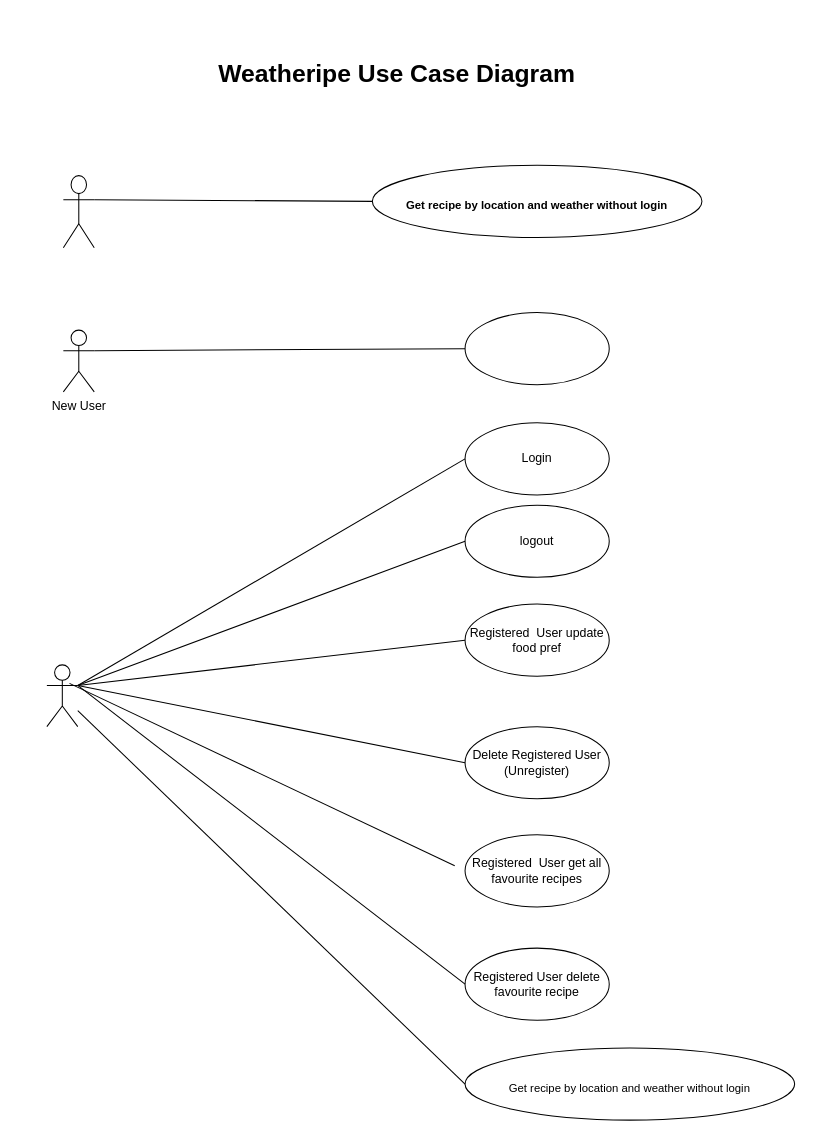
The diagram is 813 pixels wide and 1138 high, and some of its shapes have lost their labels. Each missing label, with the centre of its shape:
"Register" goes at pixel 536 348.
"Registered User" goes at pixel 62 695.
"Web user" goes at pixel 78 211.
